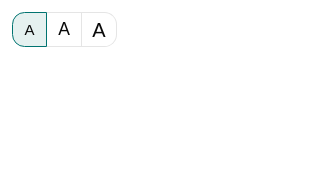
Test: TextSizeSwitch › applies and saves the chosen size
Click the button named "Large text": click(64, 30) [47, 12, 82, 47]
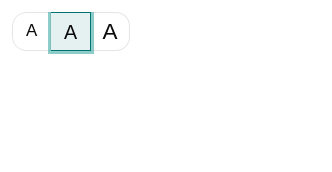
Expected: the button named "Large text" is pressed, [51, 12, 91, 51]
